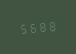eight: (38, 19, 47, 33), (48, 19, 57, 32)
five: (18, 21, 27, 34)
six: (28, 20, 37, 34)
